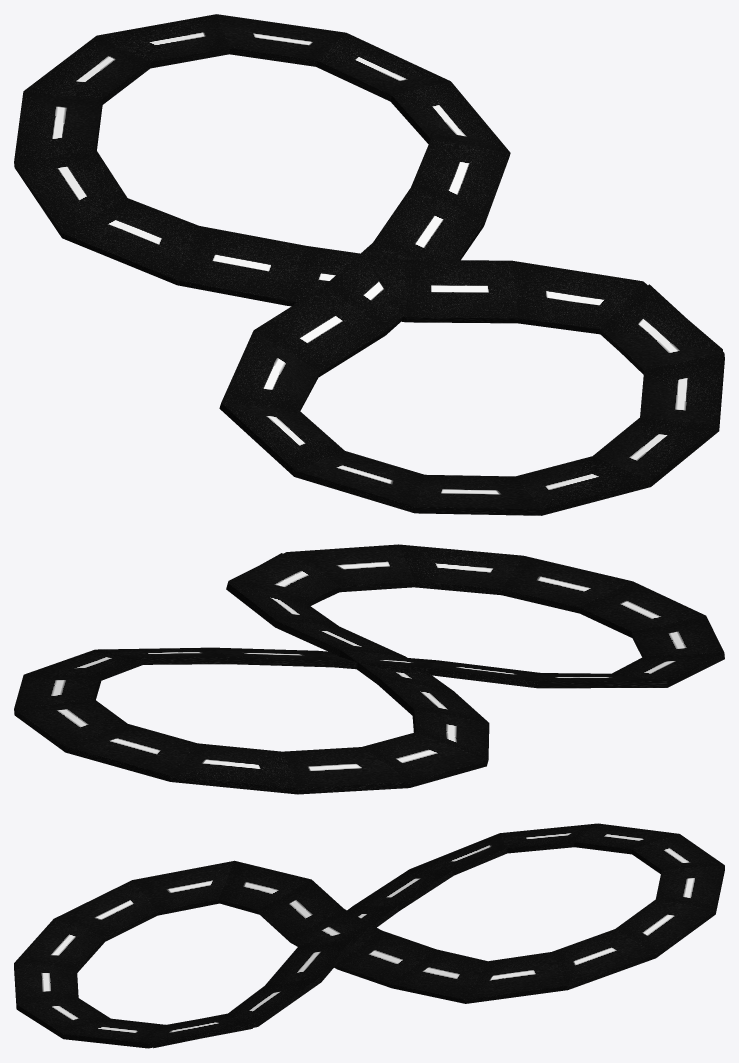
Rendered from trackModel.obj.
3 views of the same model, one above another, from view 1: azimuth 30°, elevation 25°; view 2: azimuth 150°, elevation 25°; view 3: azimuth 270°, elevation 25° (orthographic). The views are drawn at different scales.
Parts seen in each view (by area): view 1: Cube; view 2: Cube; view 3: Cube.
Part boxes in pixels (x1,y1,x2,y2): Cube: [14, 14, 724, 515]; Cube: [14, 544, 724, 794]; Cube: [14, 823, 724, 1048].
Bounding box in the file's own units: 37.59 × 11.2 × 66.44.
1 material, 1 textured.
